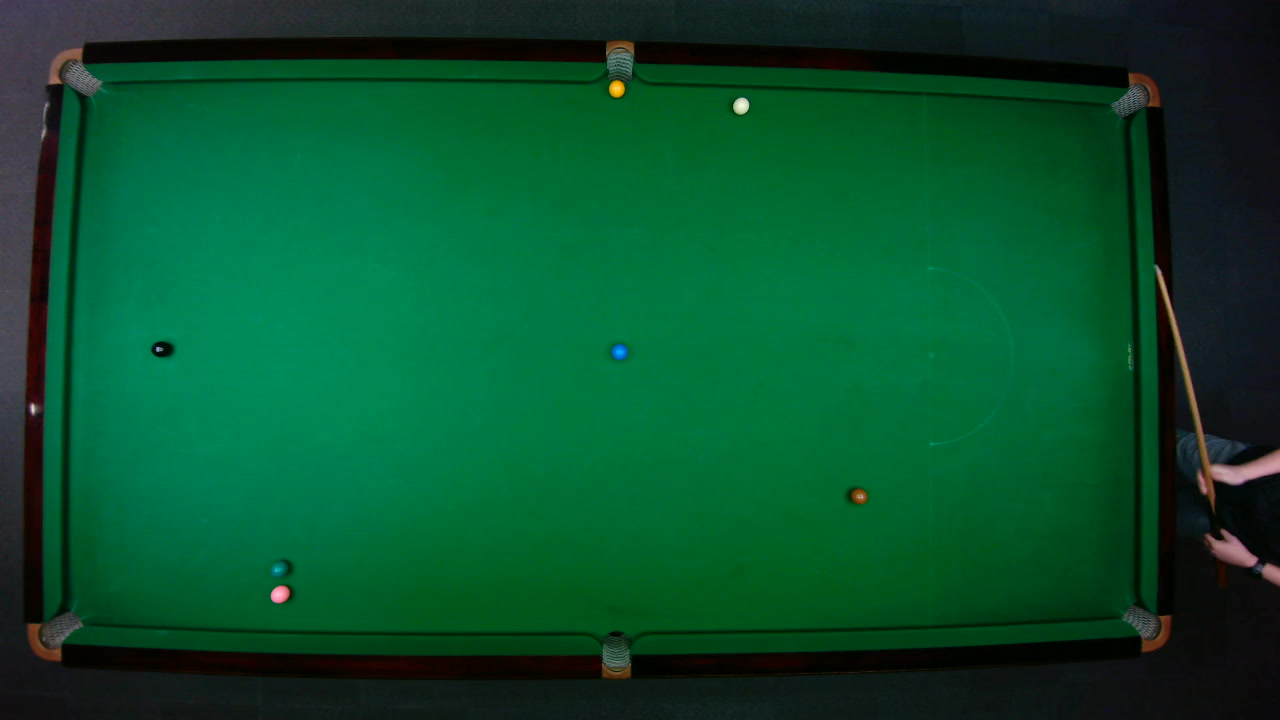bag: (25, 609, 84, 660), (46, 47, 102, 97), (1119, 603, 1172, 651), (1108, 72, 1160, 118), (601, 629, 630, 680), (605, 39, 633, 83)
black: (149, 340, 171, 357)
blue: (609, 342, 628, 360)
brown: (848, 487, 868, 504)
cue: (1150, 261, 1217, 533)
green: (268, 558, 289, 576)
pink: (268, 583, 290, 604)
white: (730, 96, 750, 115)
yellow: (607, 78, 626, 97)
zone: (927, 266, 1013, 445)
